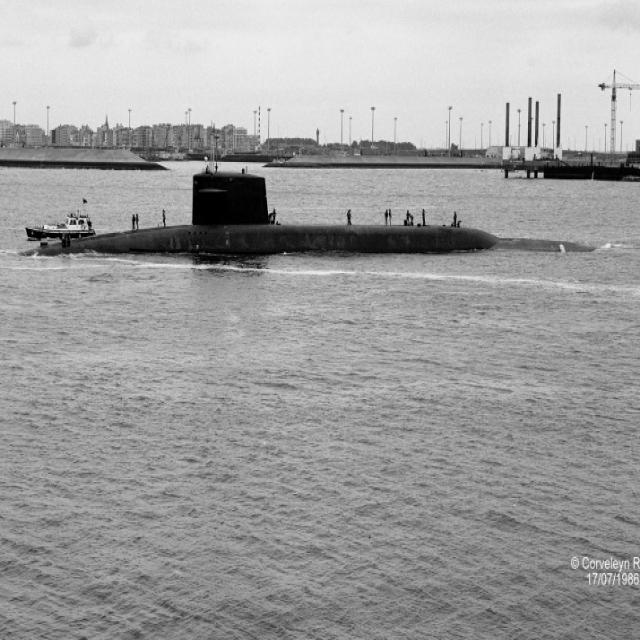submarine: (27, 163, 640, 258)
